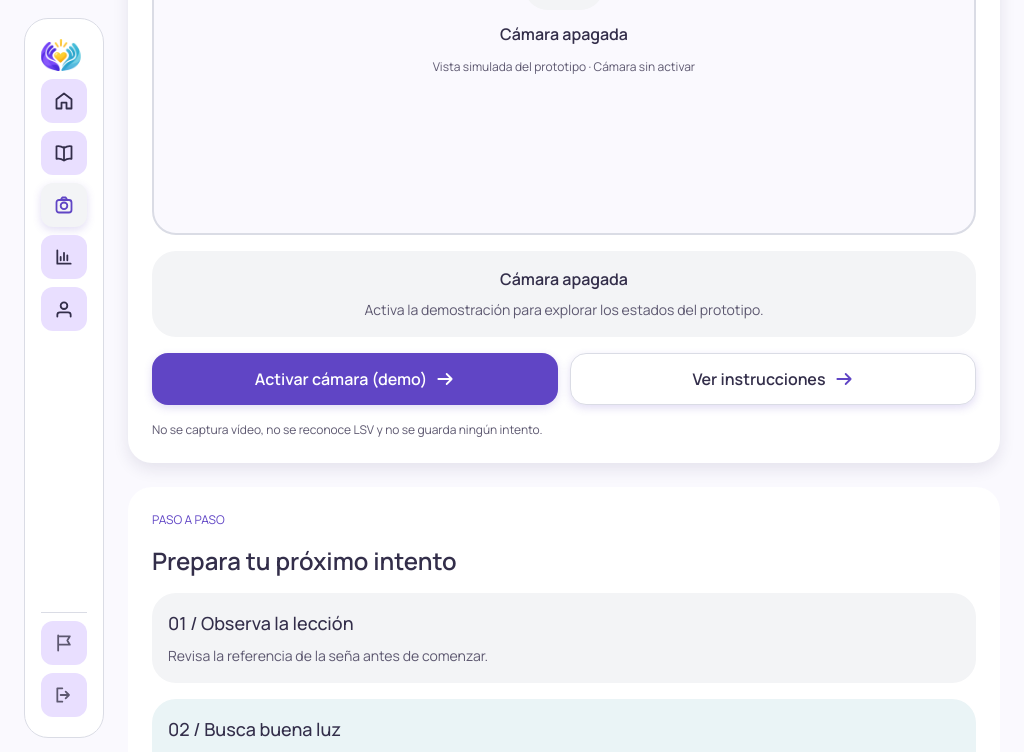
Test case: práctica representa ocho estados elegidos manualmente sin cámara, red educativa ni progreso guardado
(page scrolled)
Step 1. Click the button "Activar cámara (demo)" → click(355, 379), box [152,353,558,405]
(page scrolled)
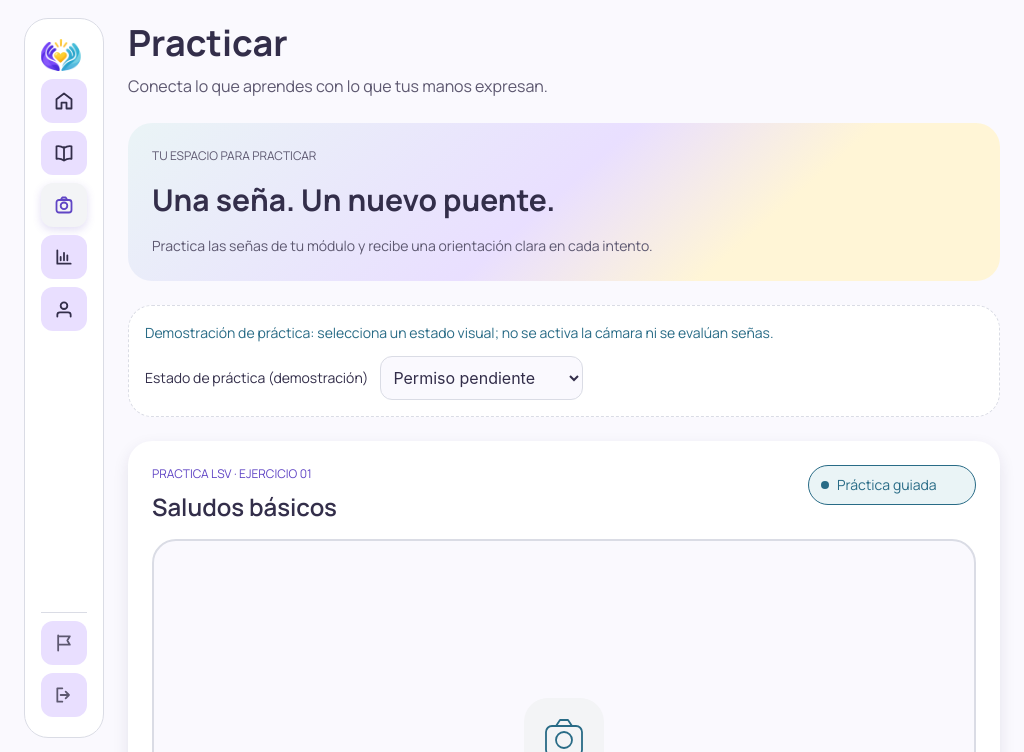
Step 2. Select "Lista para practicar" in the dropdown labelled "Estado de práctica (demostración)" → (482, 378), box [380,356,583,400]
(page scrolled)
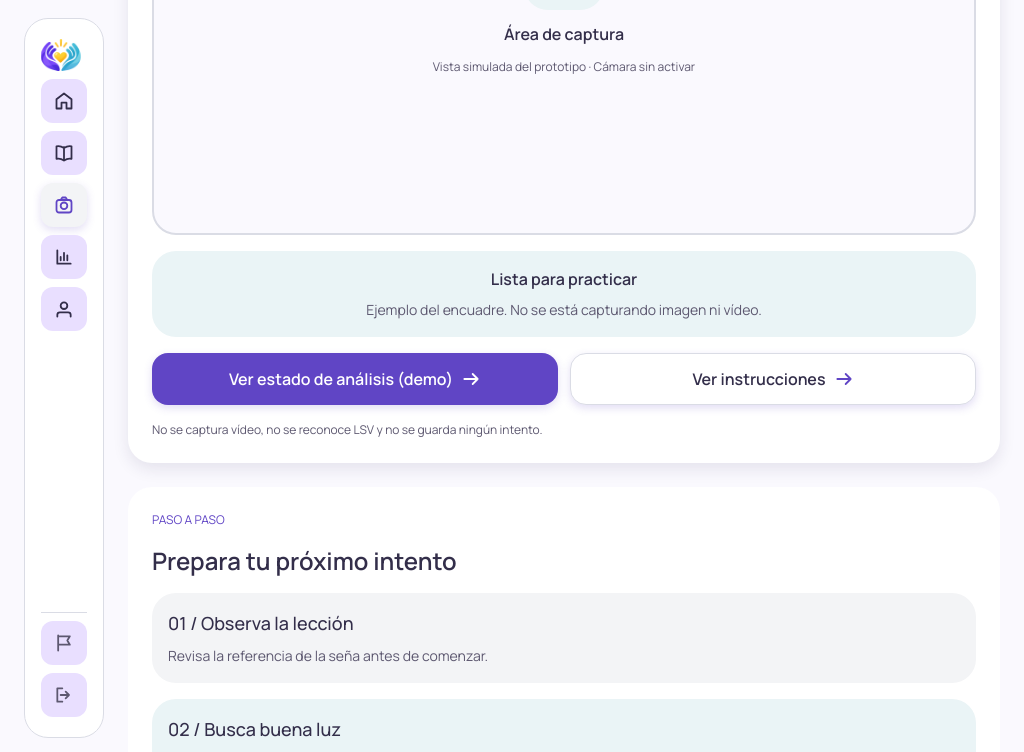
Step 3. Click the button "Ver estado de análisis (demo)" → click(355, 379), box [152,353,558,405]
(page scrolled)
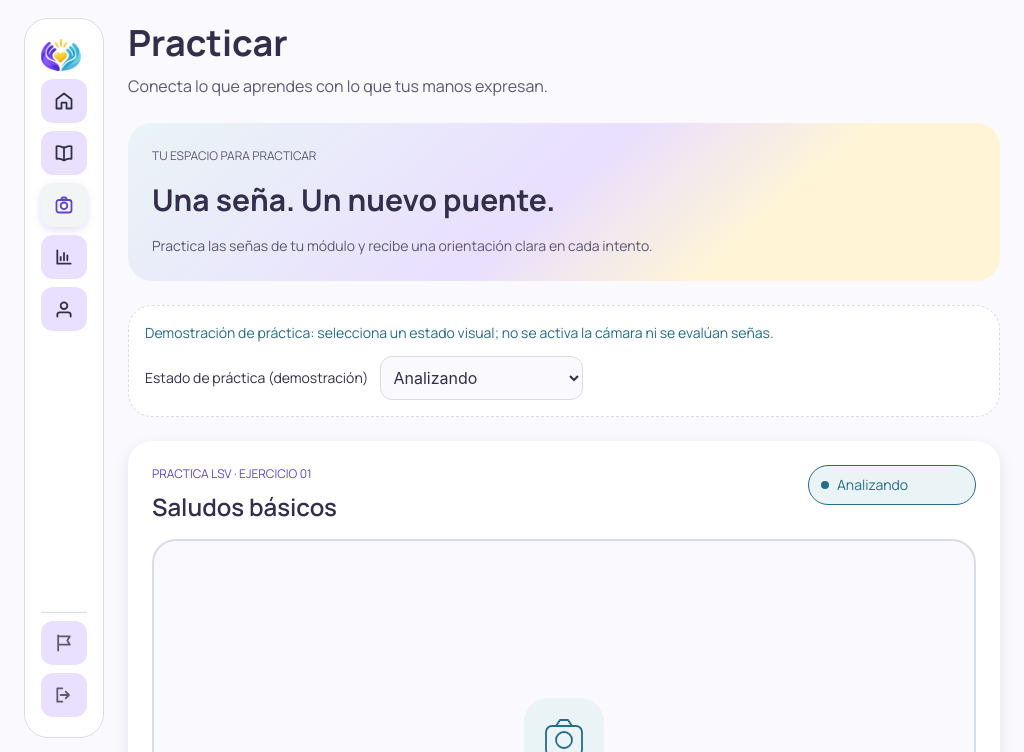
Step 4. Select "Seña reconocida" in the dropdown labelled "Estado de práctica (demostración)" → (482, 378), box [380,356,583,400]
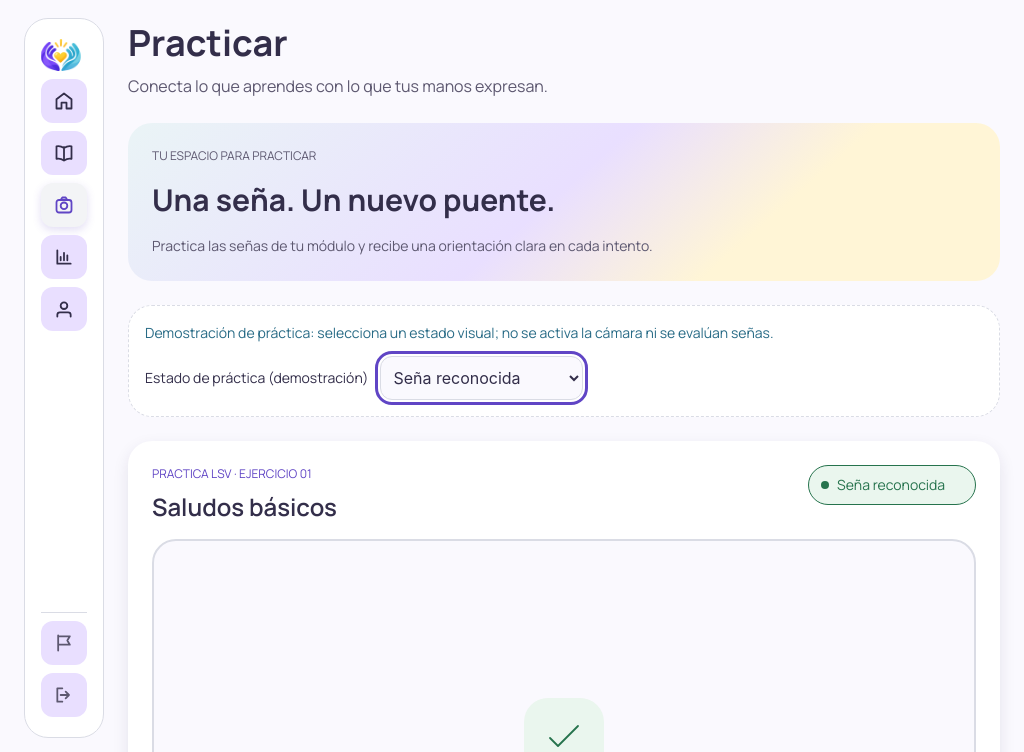
Step 5. Click the link named "Mi progreso" → click(64, 257), box [41,235,87,279]
(page scrolled)
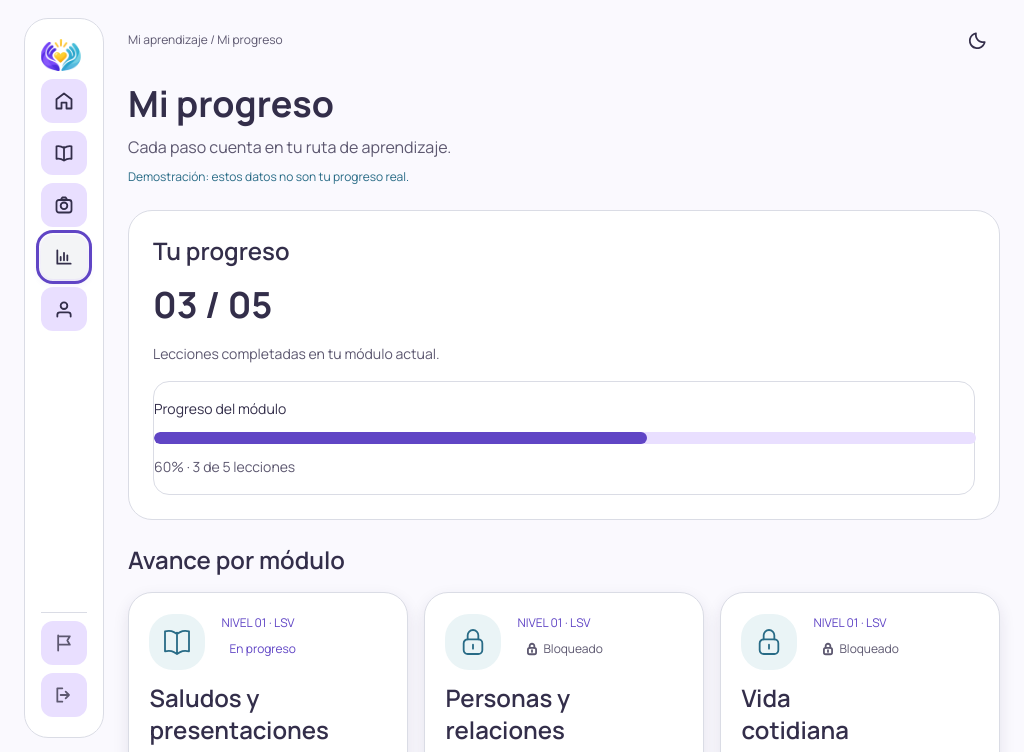
expect the text "03 / 05" is shown: met, box [153,280,272,330]
